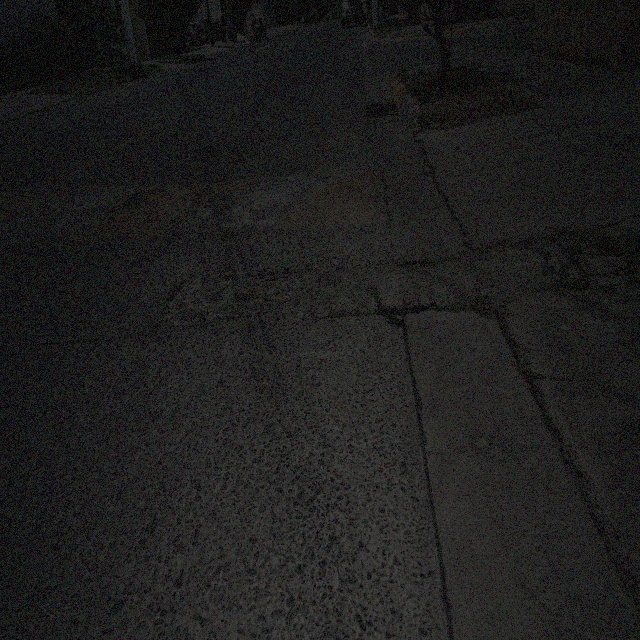pothole: (372, 300, 411, 330), (414, 139, 431, 166)
